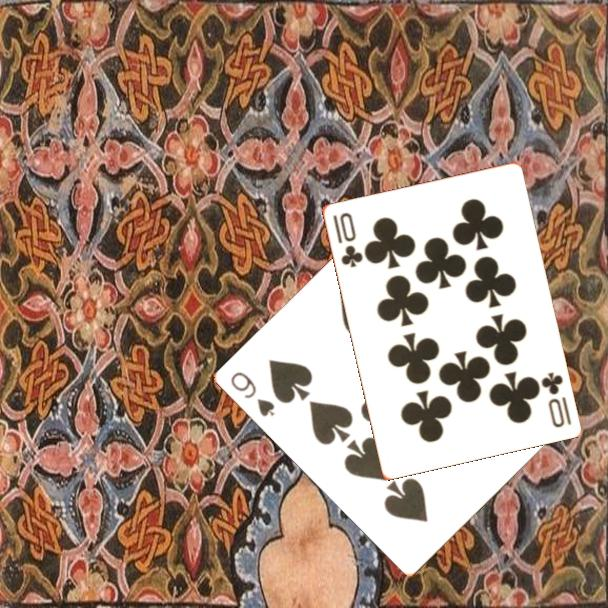c10: (537, 368, 574, 430), (329, 209, 365, 270)
s09: (228, 368, 278, 420)
